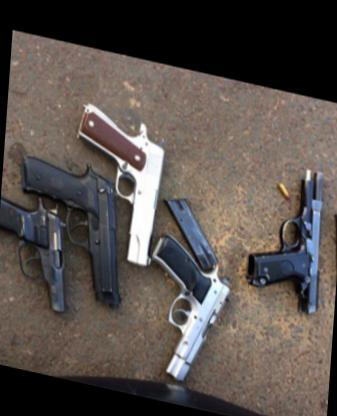pistol: (14, 142, 130, 306), (66, 92, 164, 266), (146, 220, 235, 387), (240, 143, 328, 308), (0, 185, 76, 315)
